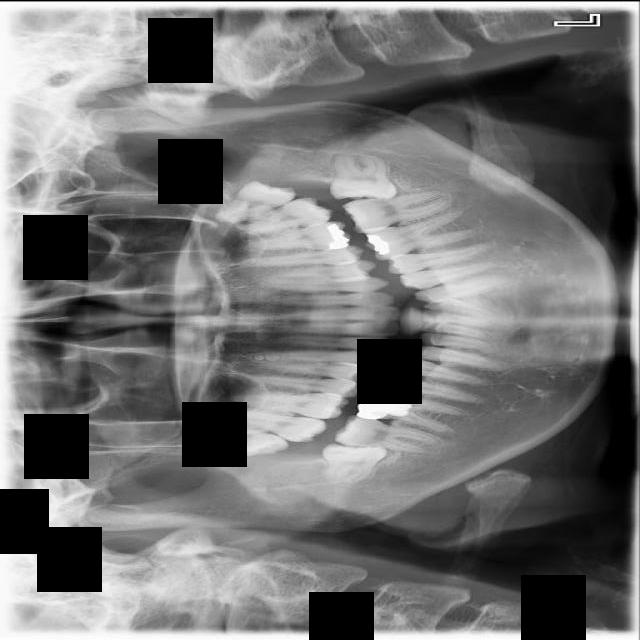3M ESPE Implant: (202, 414, 291, 466)
52: (356, 385, 419, 422), (361, 221, 417, 262), (296, 218, 353, 252), (381, 373, 424, 394)
73: (582, 26, 594, 32)
BioHorizons Implant: (222, 191, 335, 242)
BioLife Implant: (207, 167, 299, 229)
Biomet 3i Implant: (329, 151, 399, 203)
Blue Sky Bio Implant: (341, 179, 452, 237)
Caries: (218, 403, 328, 445)
Implant: (333, 411, 442, 455)
Keystone Dental Implant: (321, 441, 387, 485)
